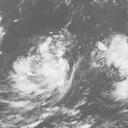cyclone: (13, 52, 69, 100)
